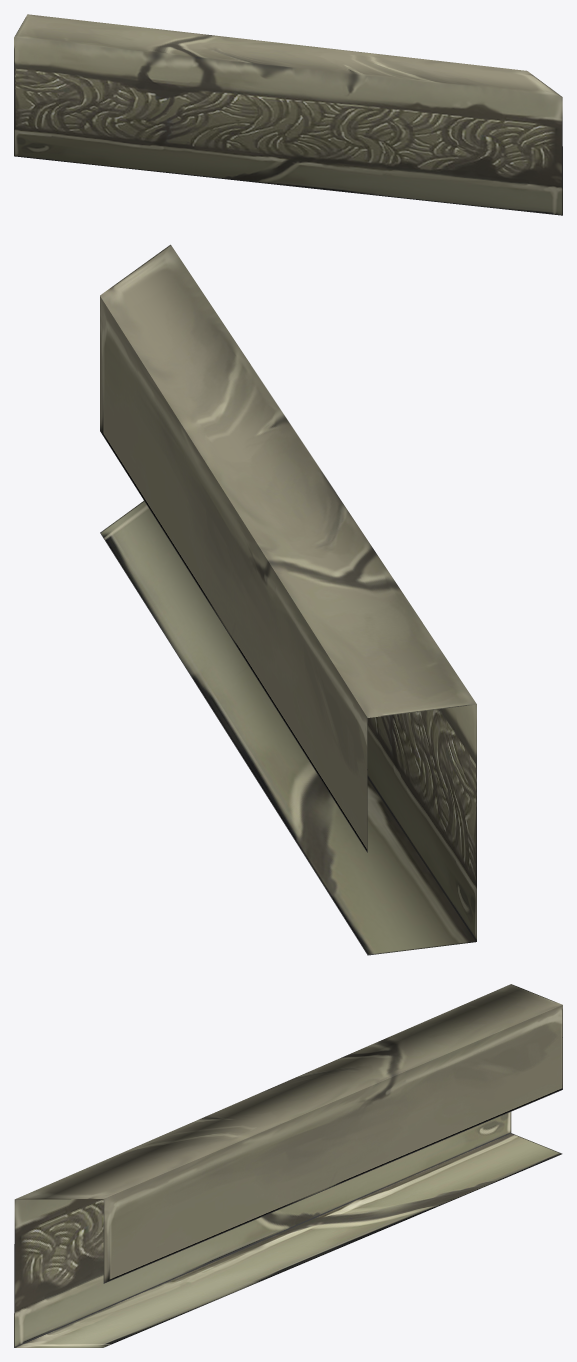
Rendered from wall_diagonal_top2.fbx.
3 renders of one model, top to bottom at view 1: azimuth 30°, elevation 25°; view 2: azimuth 150°, elevation 25°; view 3: azimuth 270°, elevation 25°, orthographic. The views are drawn at different scales.
Visible parts, largest first — view 1: diagonal1_v_cap2; view 2: diagonal1_v_cap2; view 3: diagonal1_v_cap2.
Boxes of the visible parts, x1,y1,x2,y2 form: diagonal1_v_cap2: (14,14,562,215); diagonal1_v_cap2: (100,244,476,955); diagonal1_v_cap2: (14,984,562,1347).
Bounding box in the file's own units: 2.22 × 0.716 × 2.39.
